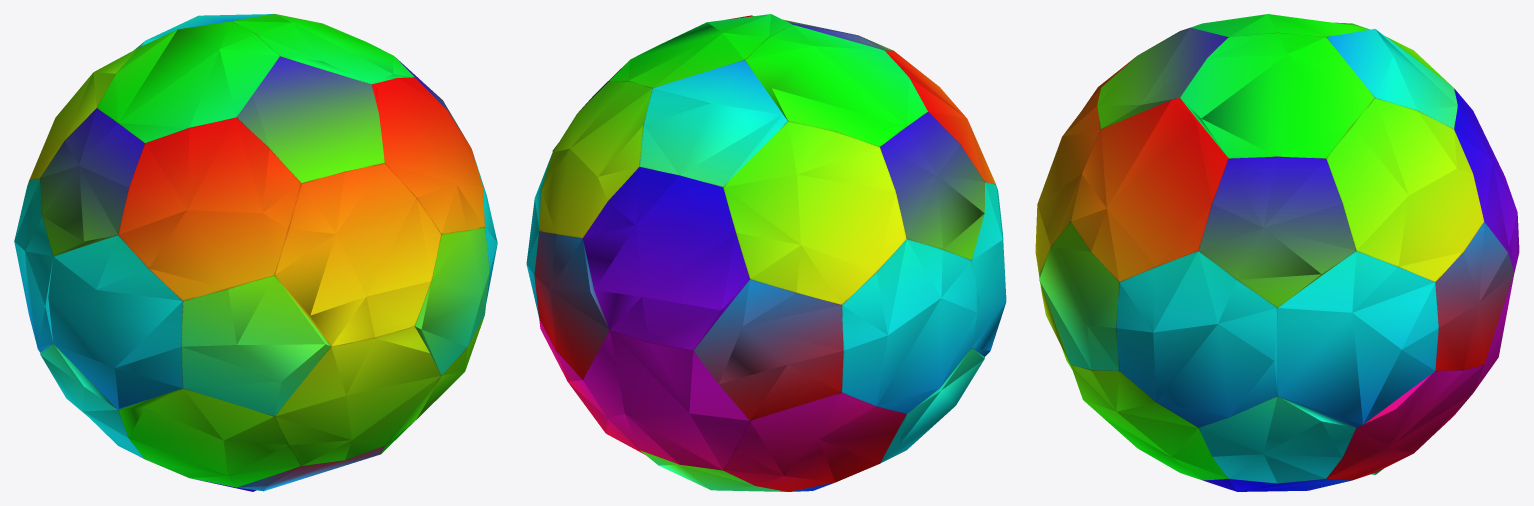
File: ball.FBX
3 renders of one model, left to right at view 1: azimuth 30°, elevation 25°; view 2: azimuth 150°, elevation 25°; view 3: azimuth 270°, elevation 25°, orthographic.
Visible parts, largest first — view 1: Football_01_D; view 2: Football_01_D; view 3: Football_01_D.
Part boxes in pixels (left/top/right/bottom): Football_01_D: left=14, top=14, right=497, bottom=491; Football_01_D: left=526, top=14, right=1006, bottom=491; Football_01_D: left=1035, top=14, right=1519, bottom=491.
Size of the model in its own units: 26.76 by 26.46 by 26.46.
